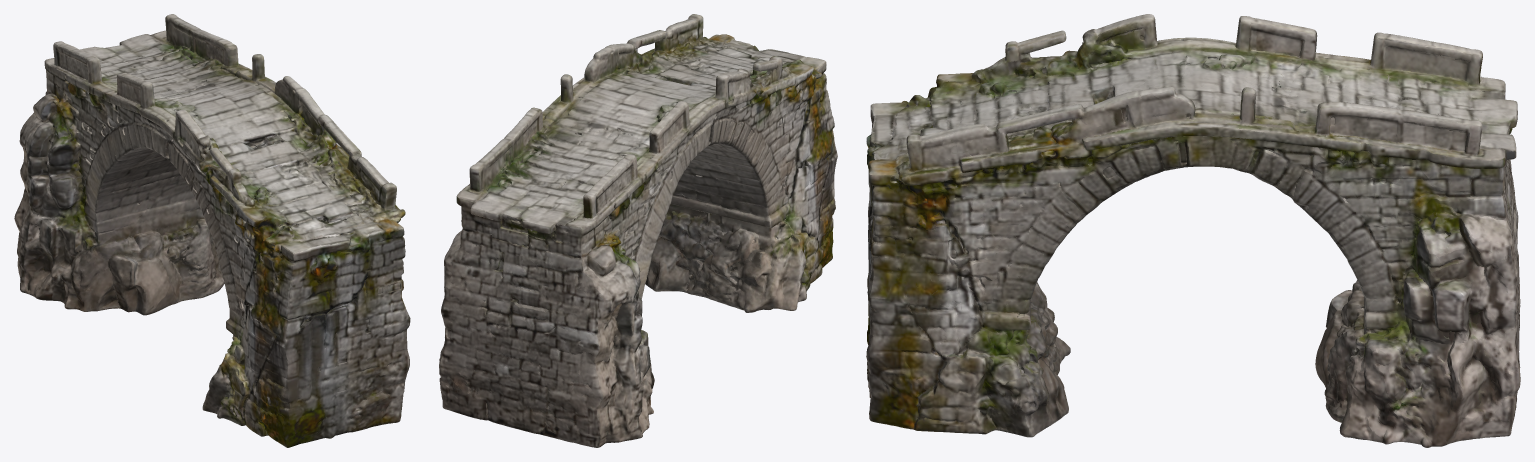
File: stone-arch-v1.glb
3 views of the same model, side by side, from view 1: azimuth 30°, elevation 25°; view 2: azimuth 150°, elevation 25°; view 3: azimuth 270°, elevation 25° (orthographic). The views are drawn at different scales.
Visible parts, largest first — view 1: geometry_0; view 2: geometry_0; view 3: geometry_0.
Boxes of the visible parts, box(x1,y1,x2,y2) form: geometry_0: box(14, 14, 410, 447); geometry_0: box(439, 14, 837, 447); geometry_0: box(866, 14, 1520, 447).
Size of the model in its own units: 4.5 by 5.75 by 10.13.
Materials: 1 (1 with a texture image).
